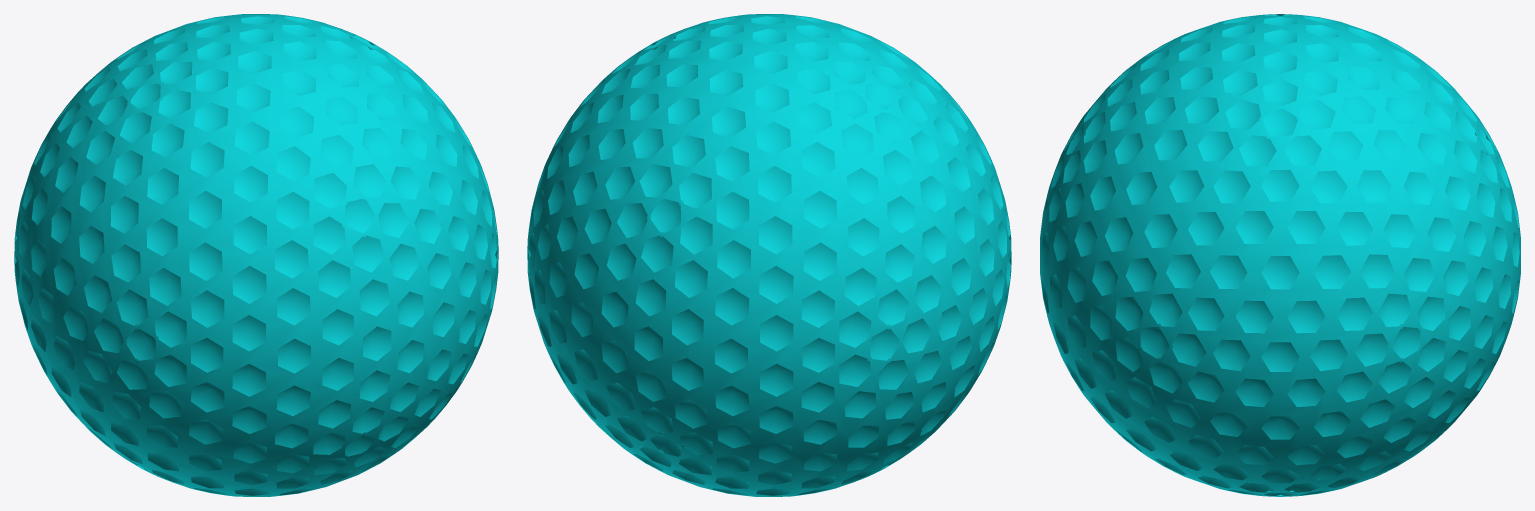
File: GolfBall.fbx
3 renders of one model, left to right at view 1: azimuth 30°, elevation 25°; view 2: azimuth 150°, elevation 25°; view 3: azimuth 270°, elevation 25°, orthographic.
Visible parts, largest first — view 1: Sphere; view 2: Sphere; view 3: Sphere.
Part boxes in pixels (x1=…): Sphere: x1=14, y1=14, x2=498, y2=496; Sphere: x1=527, y1=14, x2=1011, y2=496; Sphere: x1=1040, y1=14, x2=1520, y2=496.
Size of the model in its own units: 198 by 198 by 198.
